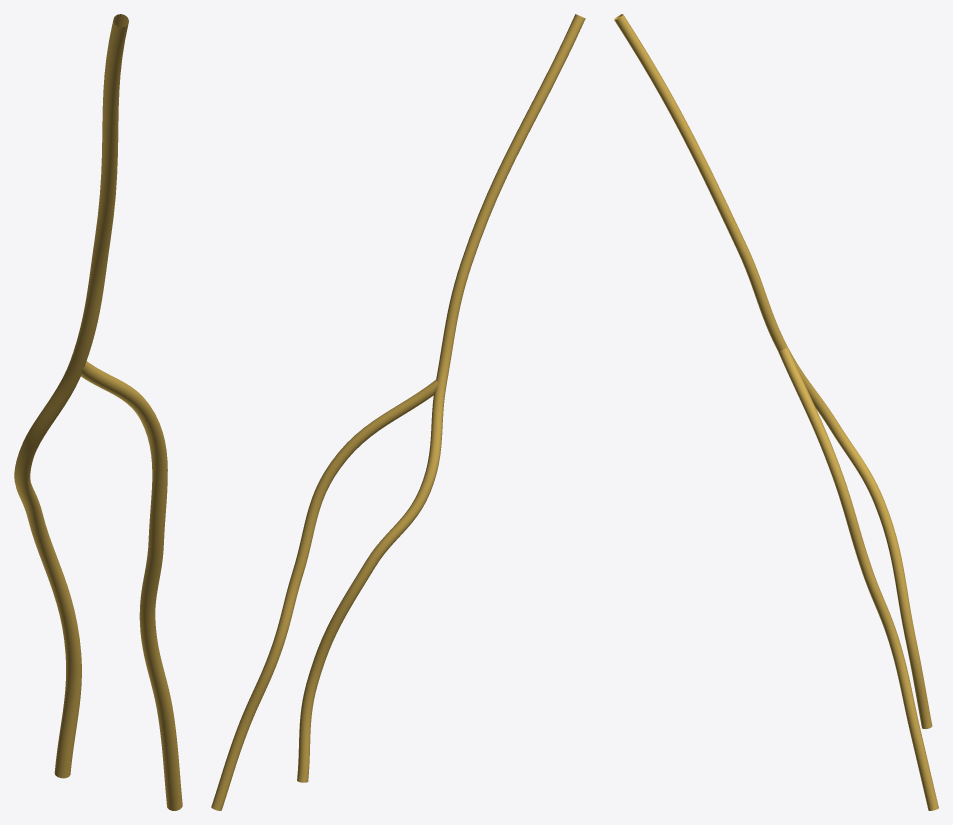
The picture shows the model from 3 angles, left to right: view 1: azimuth 30°, elevation 25°; view 2: azimuth 150°, elevation 25°; view 3: azimuth 270°, elevation 25°; orthographic projection. The views are drawn at different scales.
Parts seen in each view (by area): view 1: 左侧腓深神经趾背神经; view 2: 左侧腓深神经趾背神经; view 3: 左侧腓深神经趾背神经.
Part boxes in pixels (bbox=[...]): 左侧腓深神经趾背神经: bbox=[14, 14, 182, 810]; 左侧腓深神经趾背神经: bbox=[211, 14, 585, 810]; 左侧腓深神经趾背神经: bbox=[614, 14, 938, 810].
Size of the model in its own units: 0.0317 by 0.1046 by 0.0439.
